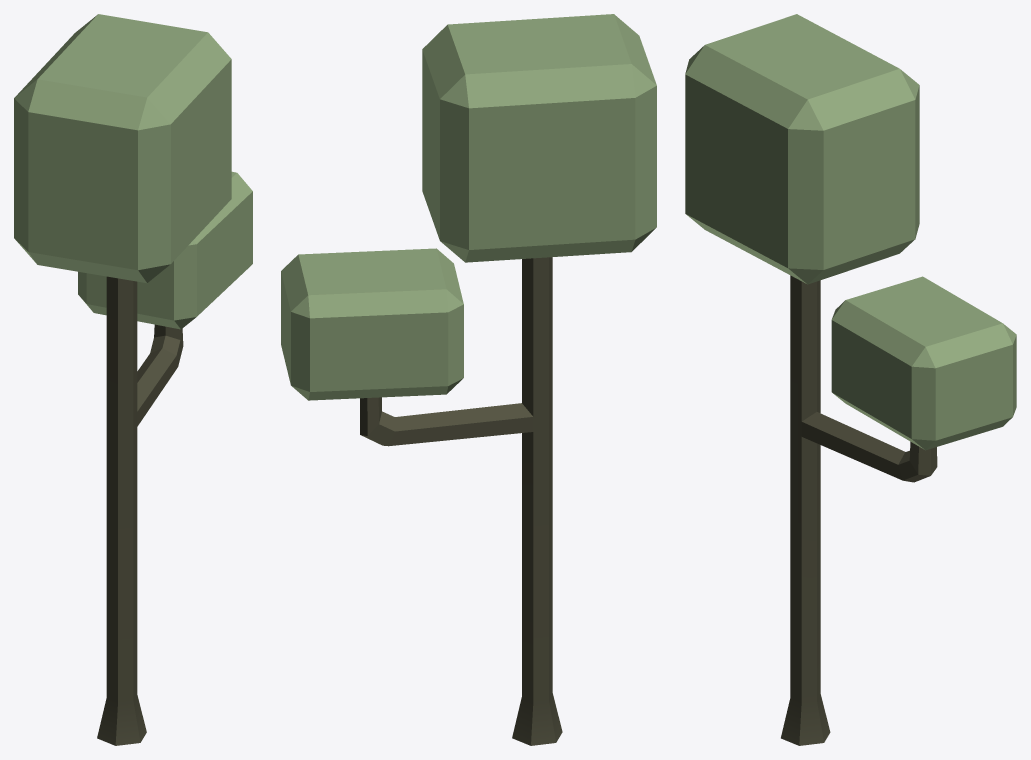
Rendered from Tree5.fbx.
3 renders of one model, left to right at view 1: azimuth 30°, elevation 25°; view 2: azimuth 150°, elevation 25°; view 3: azimuth 270°, elevation 25°, orthographic.
Visible parts, largest first — view 1: Tree5Canopy1, Tree5Trunk, Tree5Canopy2; view 2: Tree5Canopy1, Tree5Canopy2, Tree5Trunk; view 3: Tree5Canopy1, Tree5Canopy2, Tree5Trunk.
Part boxes in pixels (x1=…): Tree5Canopy1: x1=14, y1=14, x2=231, y2=282; Tree5Trunk: x1=97, y1=276, x2=183, y2=745; Tree5Canopy2: x1=78, y1=171, x2=252, y2=329; Tree5Canopy1: x1=422, y1=14, x2=656, y2=262; Tree5Canopy2: x1=281, y1=248, x2=463, y2=400; Tree5Trunk: x1=360, y1=257, x2=562, y2=745; Tree5Canopy1: x1=685, y1=14, x2=919, y2=284; Tree5Canopy2: x1=831, y1=276, x2=1016, y2=450; Tree5Trunk: x1=781, y1=275, x2=937, y2=745.
Bounding box in the file's own units: 2.92 × 6.46 × 2.86.
